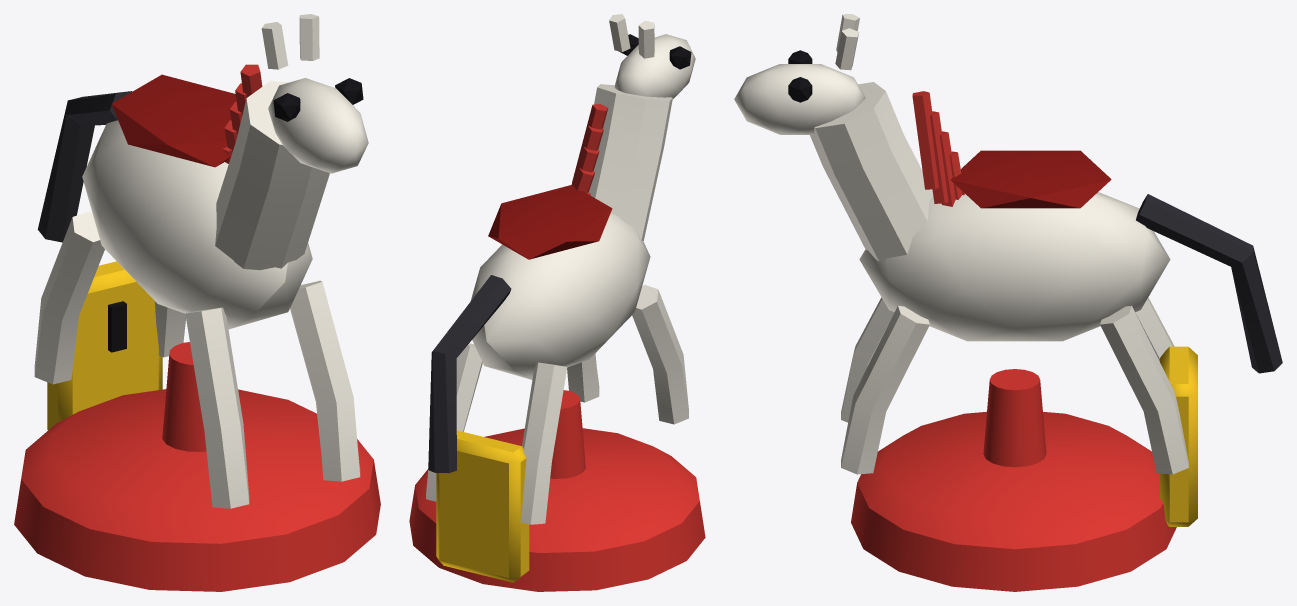
The model's file is kiddie_ride.glb.
The picture shows the model from 3 angles, left to right: view 1: azimuth 30°, elevation 25°; view 2: azimuth 150°, elevation 25°; view 3: azimuth 270°, elevation 25°; orthographic projection. The views are drawn at different scales.
Visible parts, largest first — view 1: kiddie_ride; view 2: kiddie_ride; view 3: kiddie_ride.
Boxes of the visible parts, box(x1,y1,x2,y2) form: kiddie_ride: box(14, 14, 380, 591); kiddie_ride: box(409, 14, 705, 591); kiddie_ride: box(734, 14, 1282, 591).
Size of the model in its own units: 1.04 by 1.75 by 1.74.
